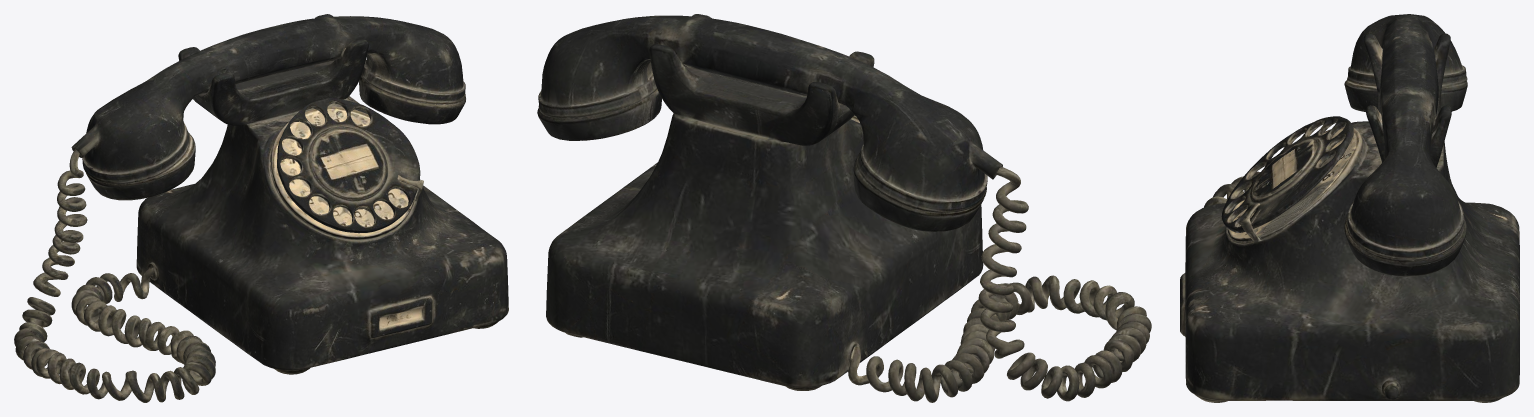
File: rotary-phone.glb
3 renders of one model, left to right at view 1: azimuth 30°, elevation 25°; view 2: azimuth 150°, elevation 25°; view 3: azimuth 270°, elevation 25°, orthographic. The views are drawn at different scales.
Bounding box in the file's own units: 1.9 × 1.02 × 1.12.
Materials: 1 (1 with a texture image).
